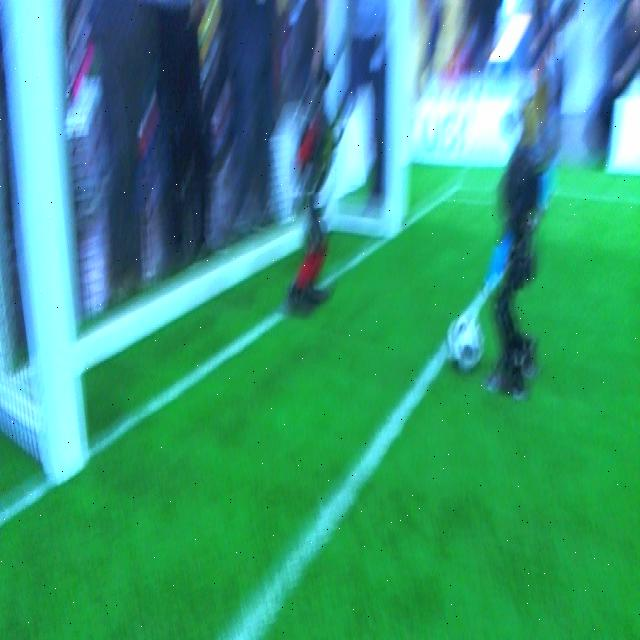ball: (446, 307, 487, 377)
goalpost: (5, 5, 92, 487), (388, 2, 415, 240)
